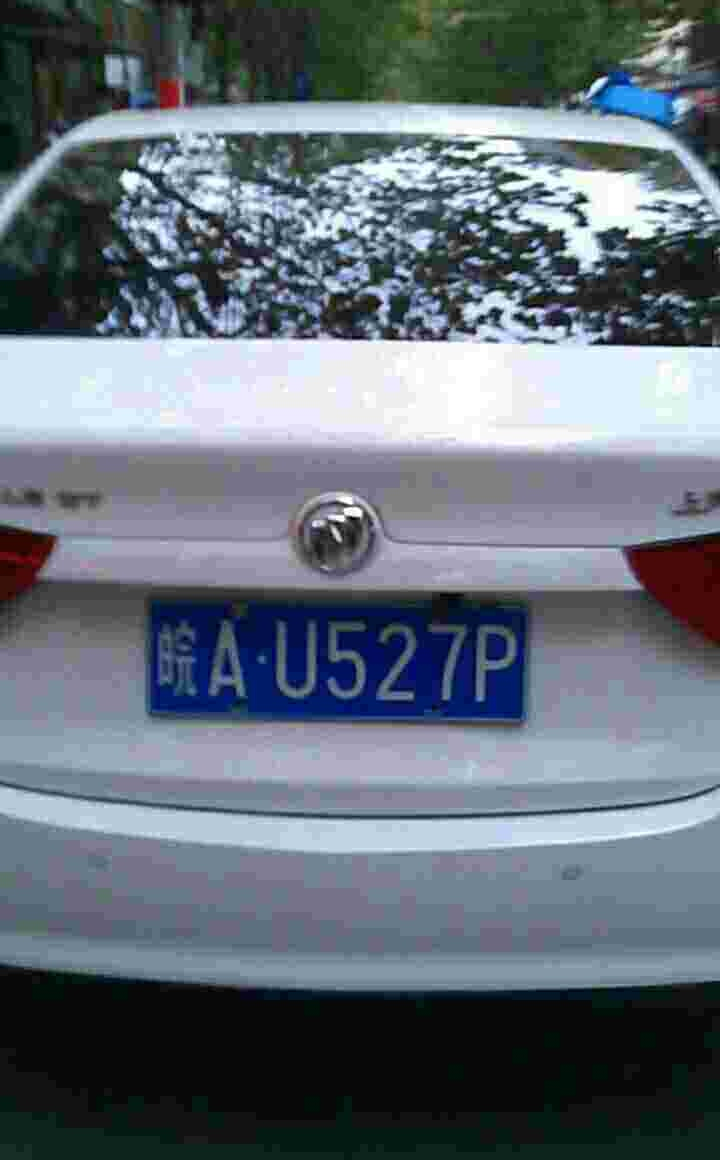license_plate: (135, 592, 550, 717)
